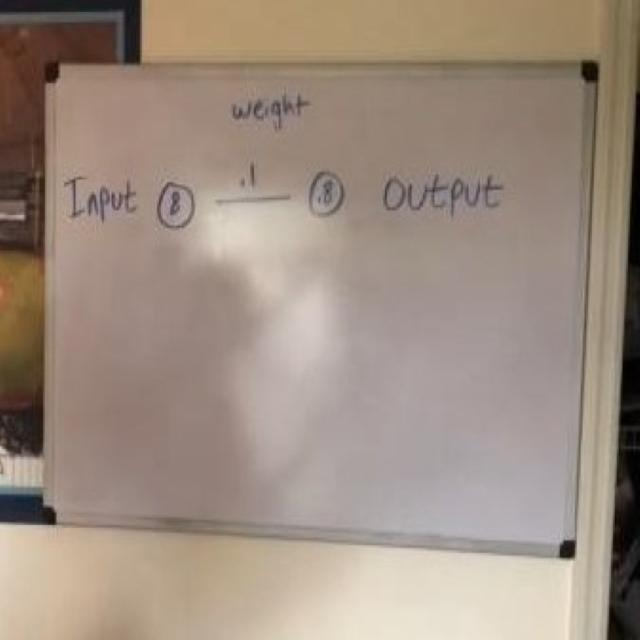White-board: (45, 70, 598, 549)
